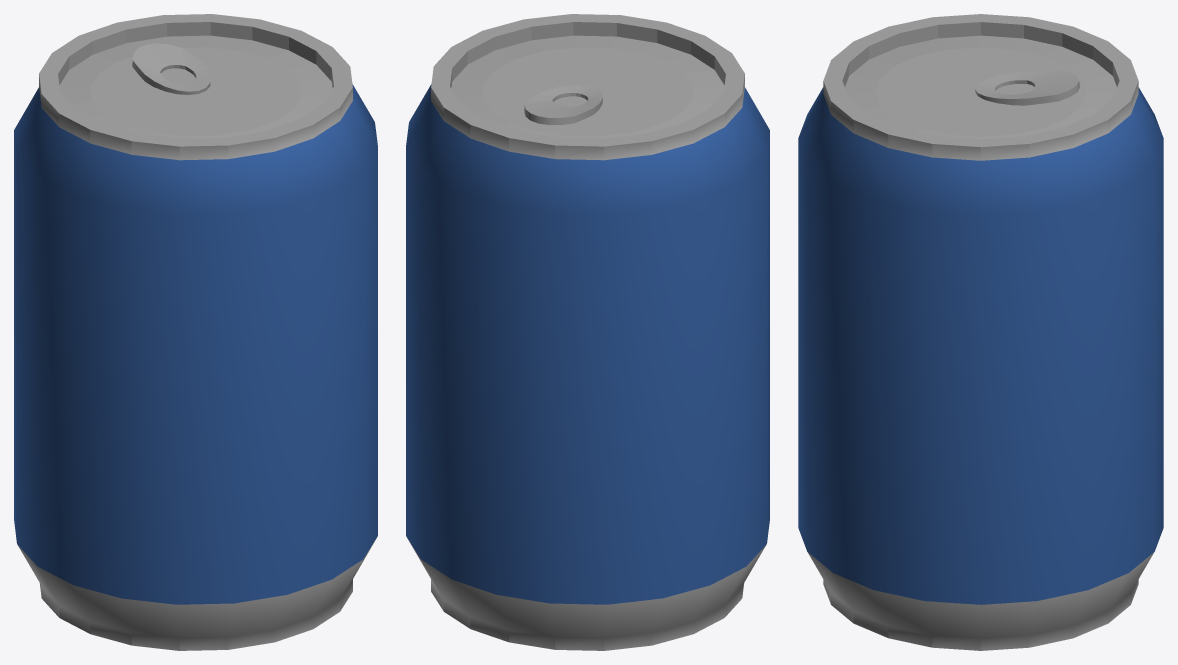
Rendered from DRINK CAN blue.fbx.
3 views of the same model, side by side, from view 1: azimuth 30°, elevation 25°; view 2: azimuth 150°, elevation 25°; view 3: azimuth 270°, elevation 25° (orthographic).
Parts seen in each view (by area): view 1: pCylinder1, pCylinder2; view 2: pCylinder1, pCylinder2; view 3: pCylinder1, pCylinder2.
Boxes of the visible parts, left/top/right/bottom form: pCylinder1: left=14, top=14, right=377, bottom=650; pCylinder2: left=132, top=43, right=210, bottom=94; pCylinder1: left=406, top=14, right=769, bottom=650; pCylinder2: left=524, top=85, right=602, bottom=125; pCylinder1: left=798, top=14, right=1163, bottom=650; pCylinder2: left=975, top=70, right=1079, bottom=105.
Size of the model in its own units: 0.02 by 0.0304 by 0.02.
